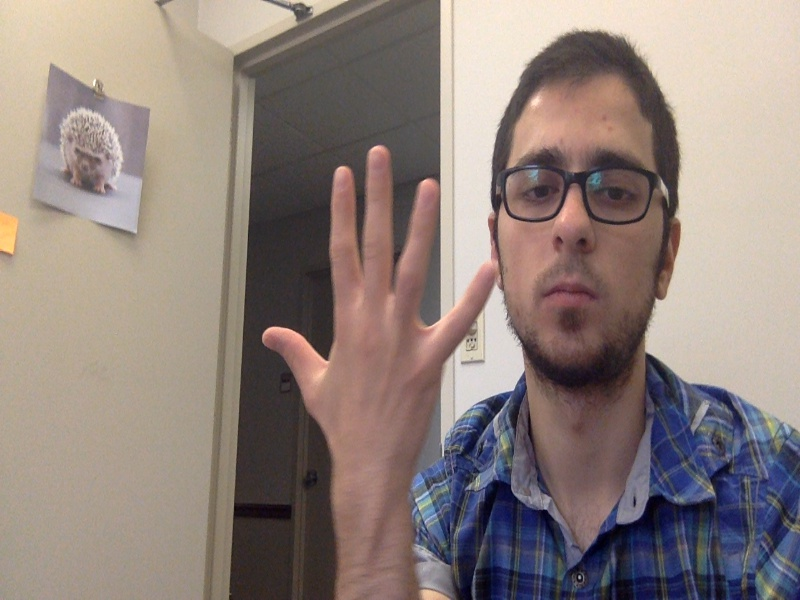5-hand: (261, 146, 498, 463)
